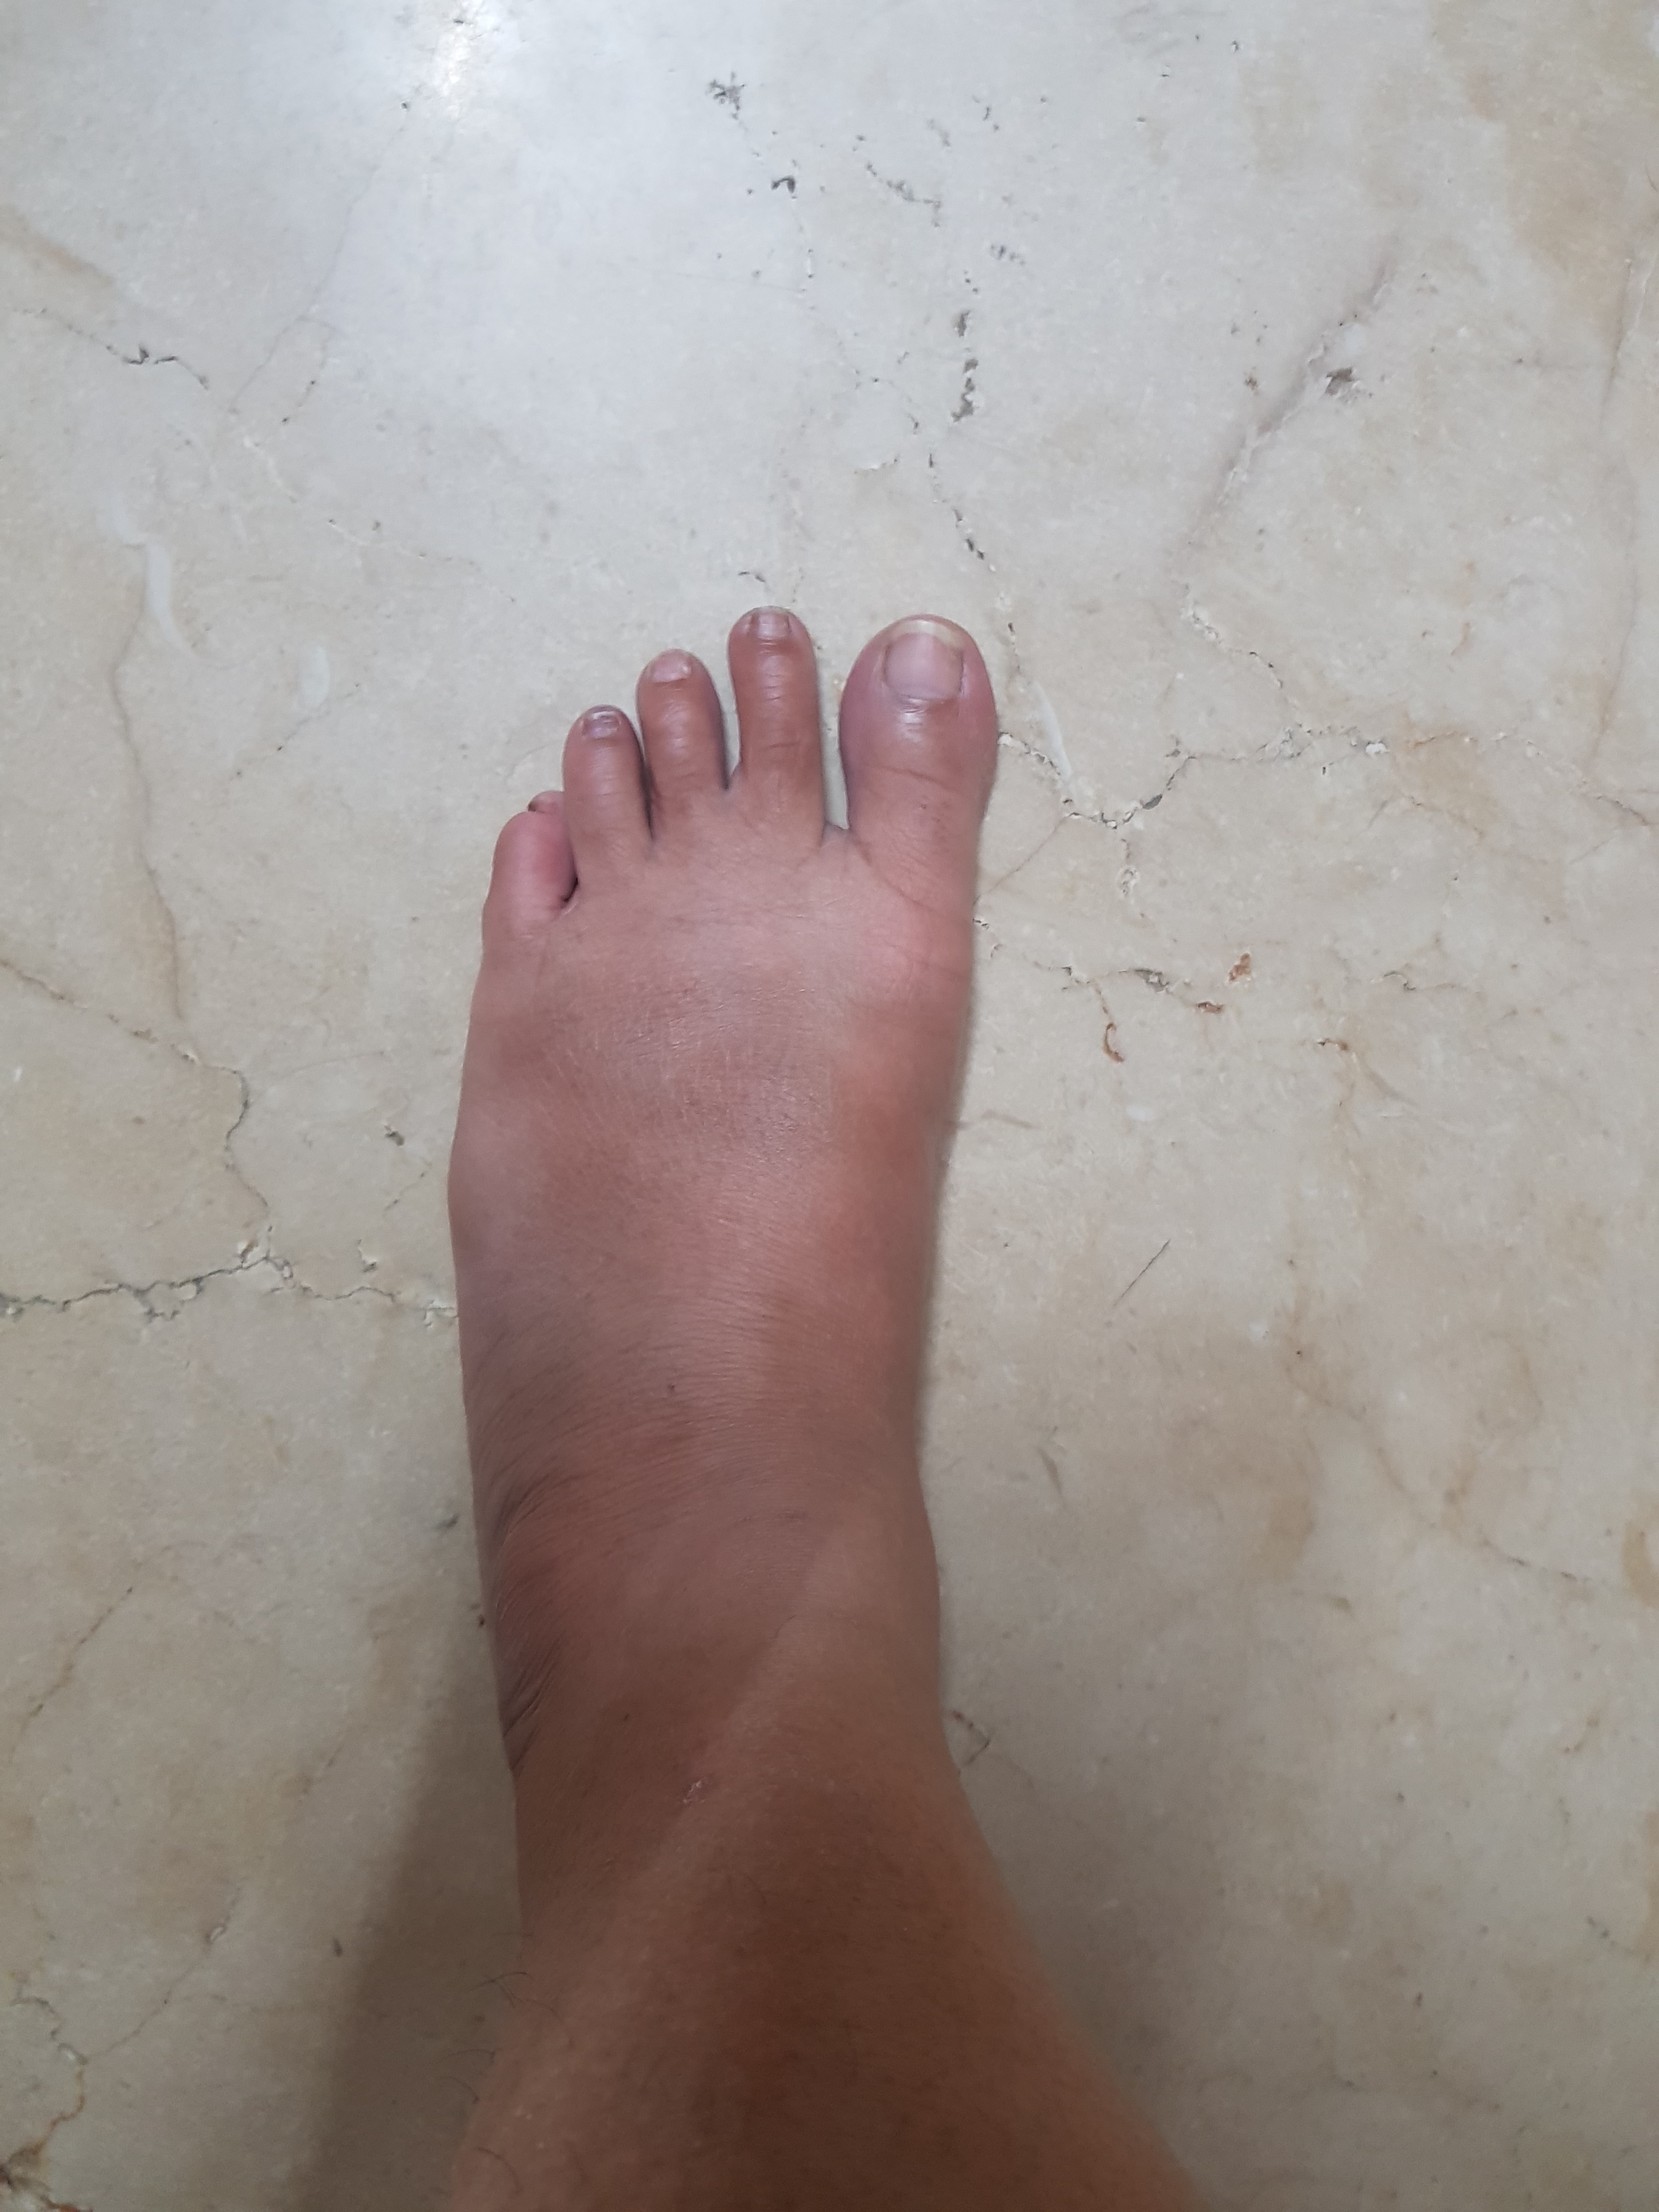feet: (356, 517, 1039, 1965)
